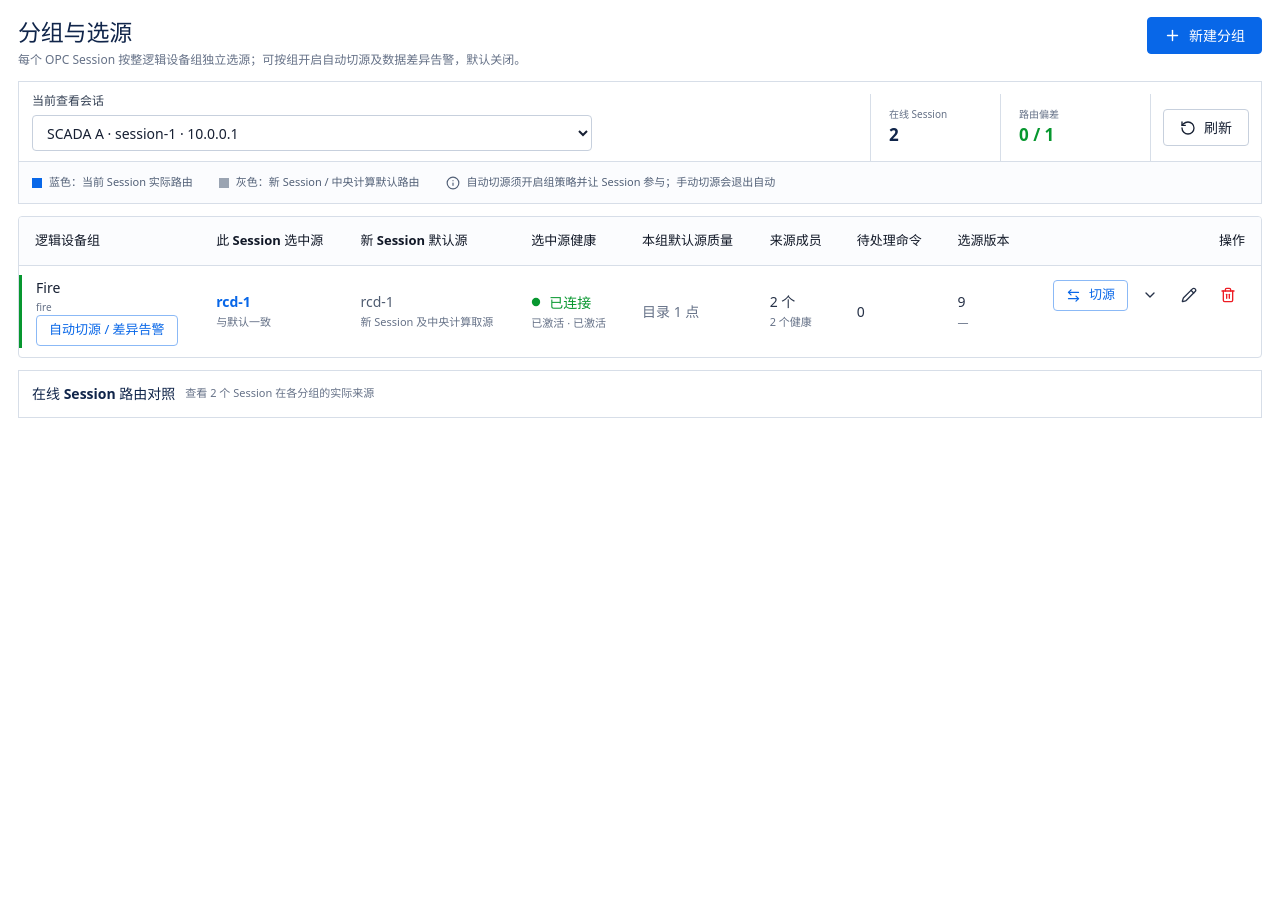
Test: one Session context across group controls › shares drawer changes with the top and preserves them when closing and reopening
This screenshot has width=1280, height=900.
Click the button named "查看 fire".
click(1150, 295)  # box x1=1133 y1=278 x2=1167 y2=312
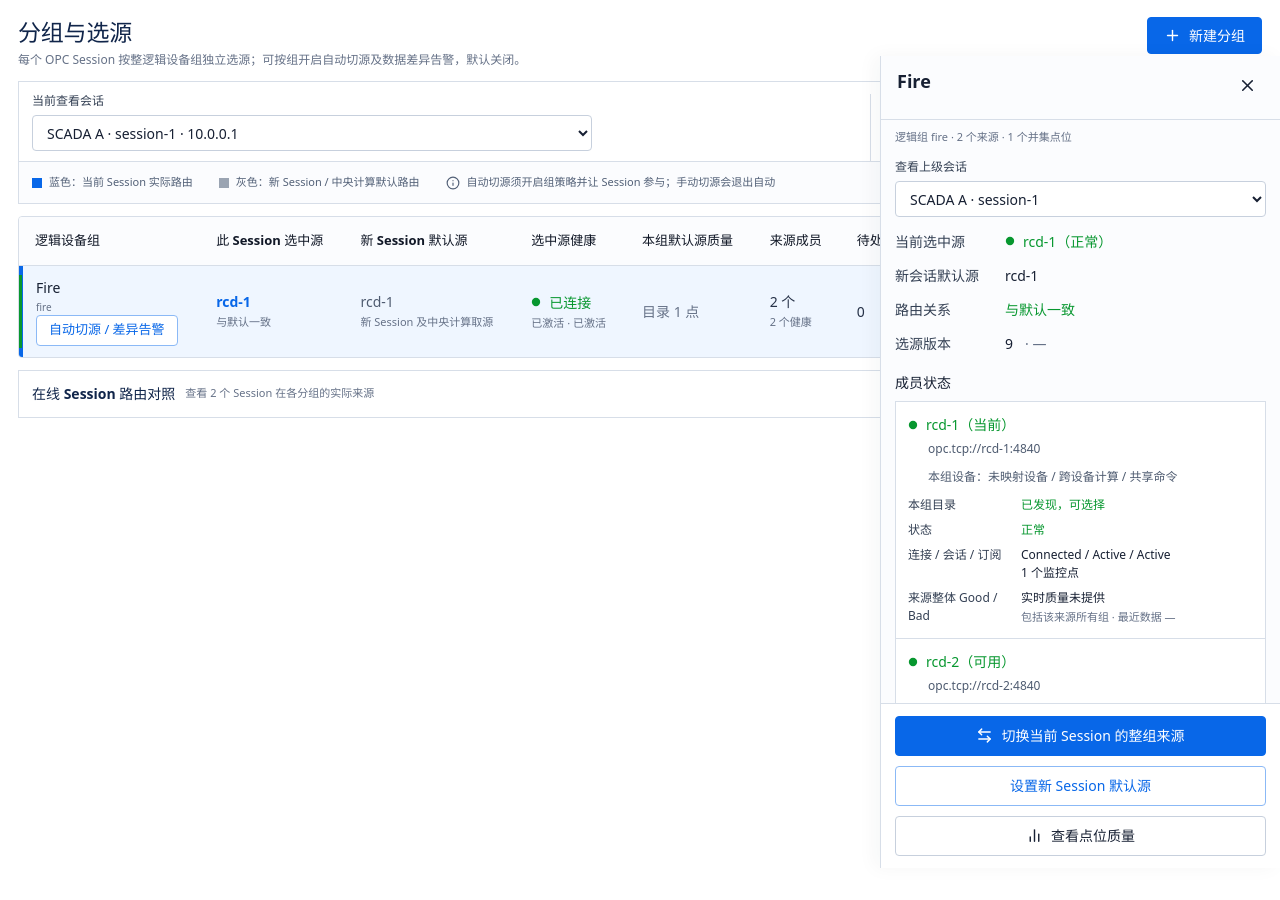
Result: the element with class "is-open" is shown at x1=880 y1=56 x2=1279 y2=868
Select "SCADA B · session-2" in the dropdown labelled "查看上级会话" at coordinates (1080, 198), box x1=895 y1=180 x2=1266 y2=216
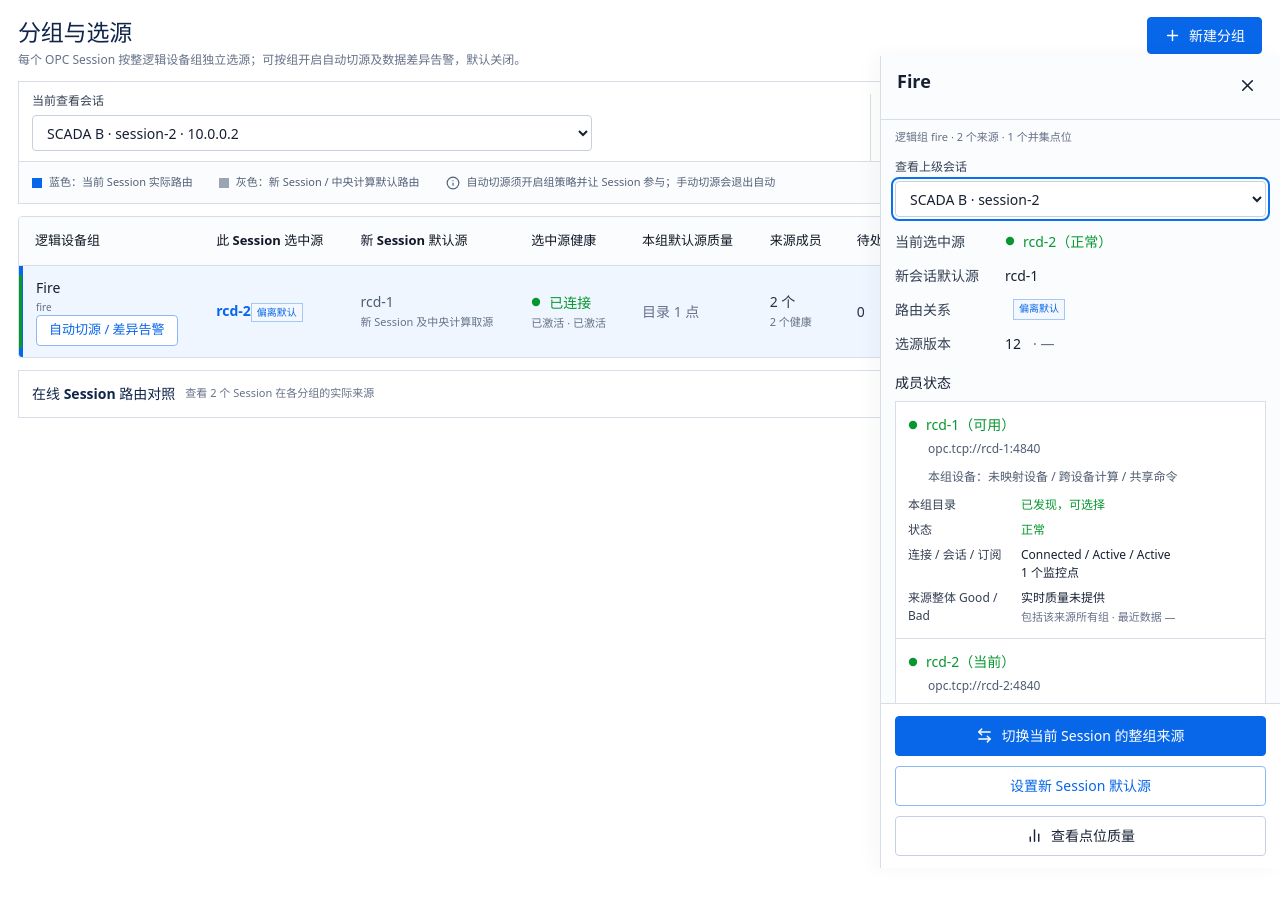
Result: the element with class "is-open" is shown at x1=880 y1=56 x2=1279 y2=868
Result: the dropdown labelled "当前查看会话" shows "SCADA B · session-2 · 10.0.0.2" at x1=32 y1=115 x2=592 y2=151
Click the button named "关闭详情".
click(1247, 85)  # box x1=1230 y1=68 x2=1264 y2=102
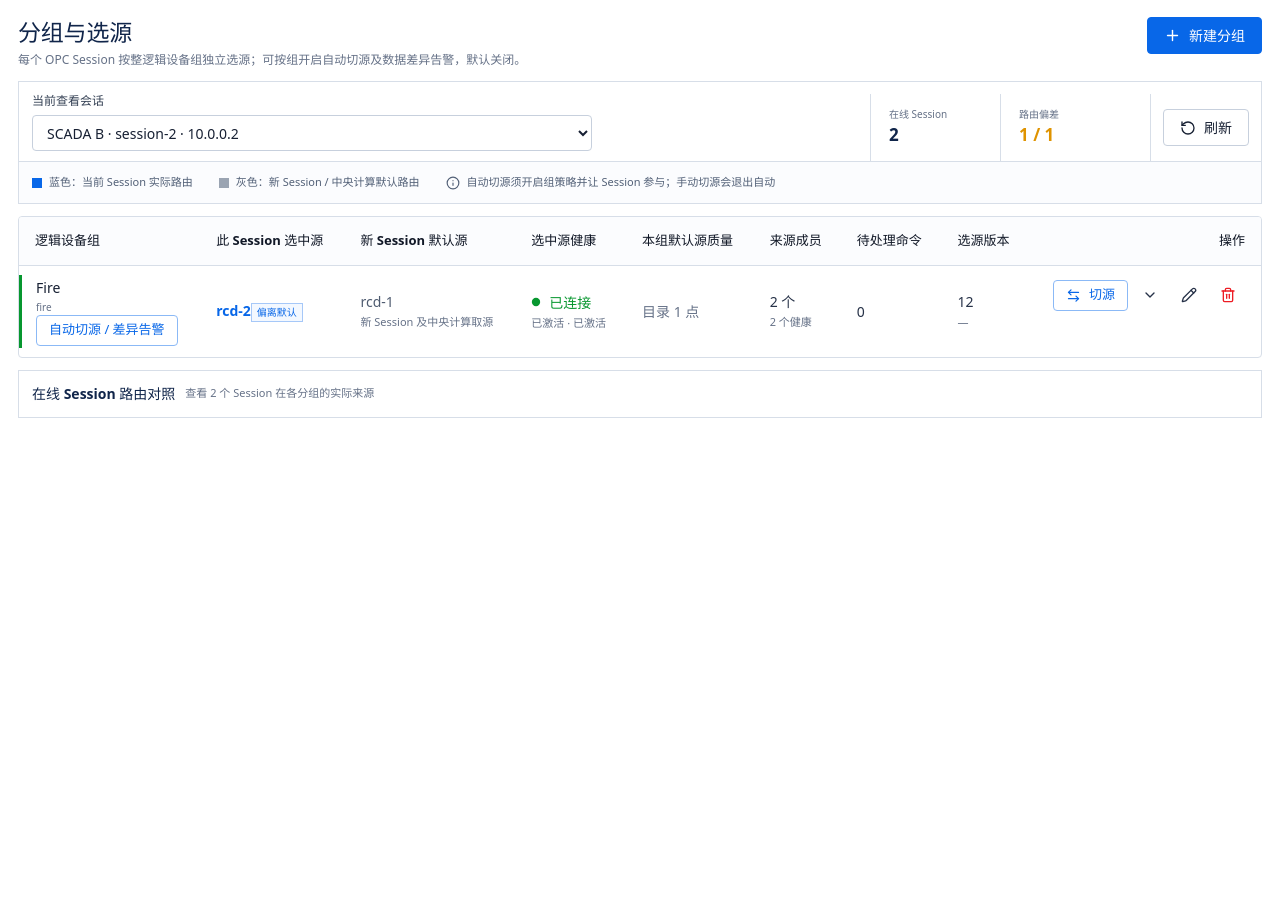
Click the button named "查看 fire".
click(1150, 295)  # box x1=1133 y1=278 x2=1167 y2=312
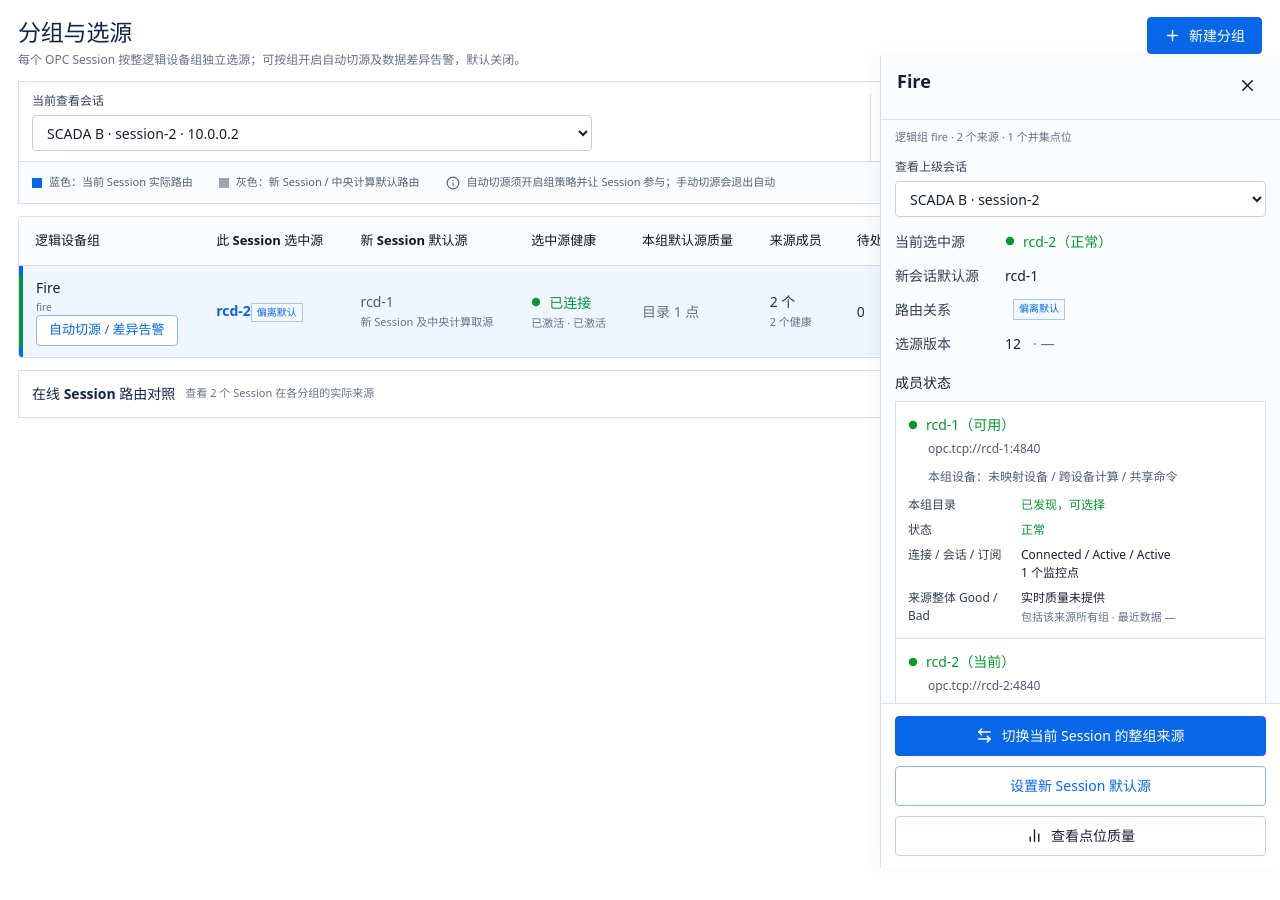
Result: the dropdown labelled "查看上级会话" shows "SCADA B · session-2" at x1=895 y1=180 x2=1266 y2=216
Result: the element with class "is-open" is shown at x1=880 y1=56 x2=1279 y2=868
Click the button named "关闭详情".
click(1247, 85)  # box x1=1230 y1=68 x2=1264 y2=102
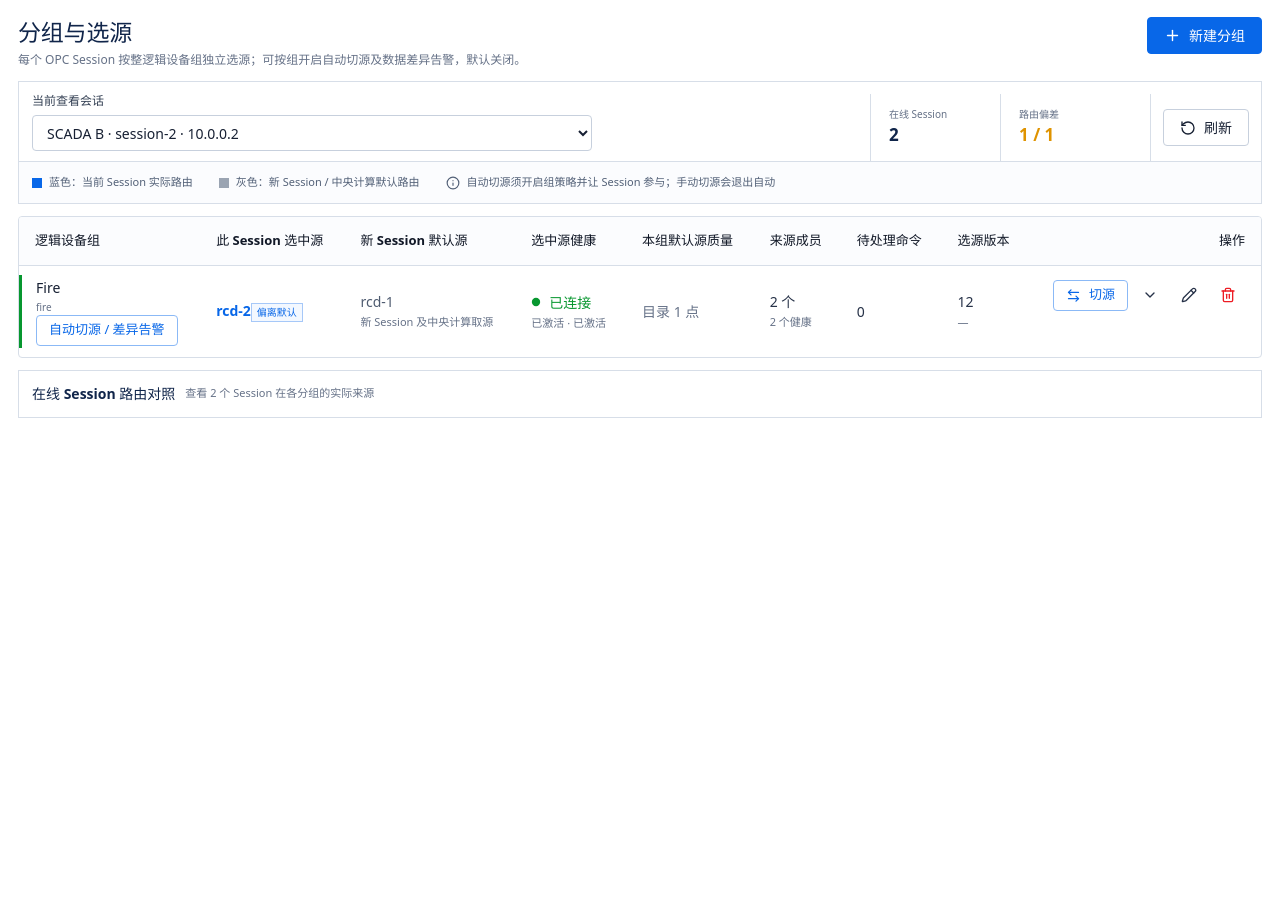
Click the button "切源".
click(1090, 295)  # box x1=1053 y1=280 x2=1128 y2=310
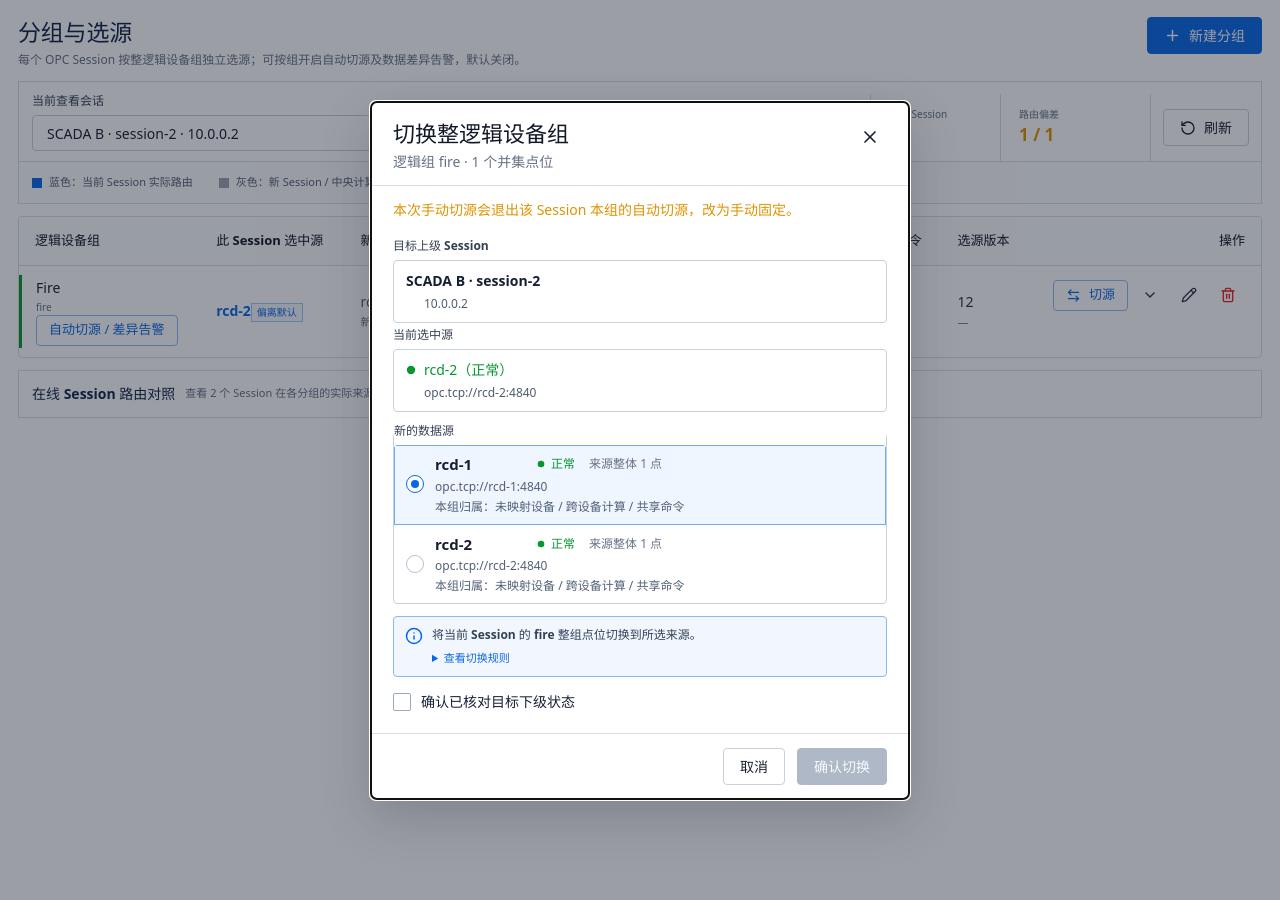
Result: the text "SCADA B · session-2" is shown at x1=406 y1=271 x2=540 y2=290
